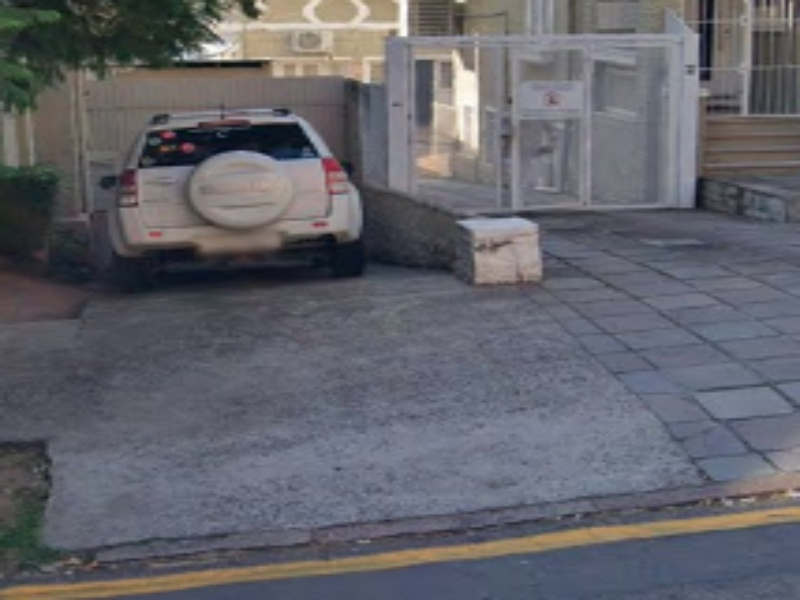g42: (53, 484, 681, 600)
